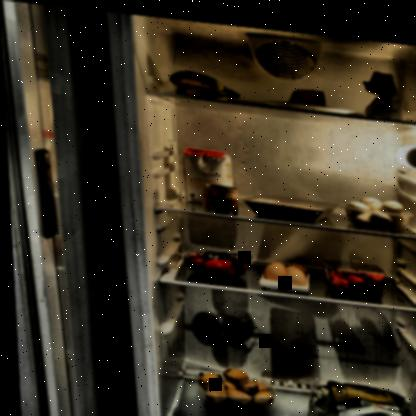banana: (168, 62, 243, 98)
cheese: (286, 78, 328, 102)
corn: (201, 179, 239, 212)
eggs: (257, 251, 310, 286)
mushrooms: (344, 185, 408, 219)
potato: (190, 359, 271, 402)
spinach: (306, 370, 415, 415)
strawberries: (320, 256, 387, 294)
tomato: (182, 243, 251, 281)
